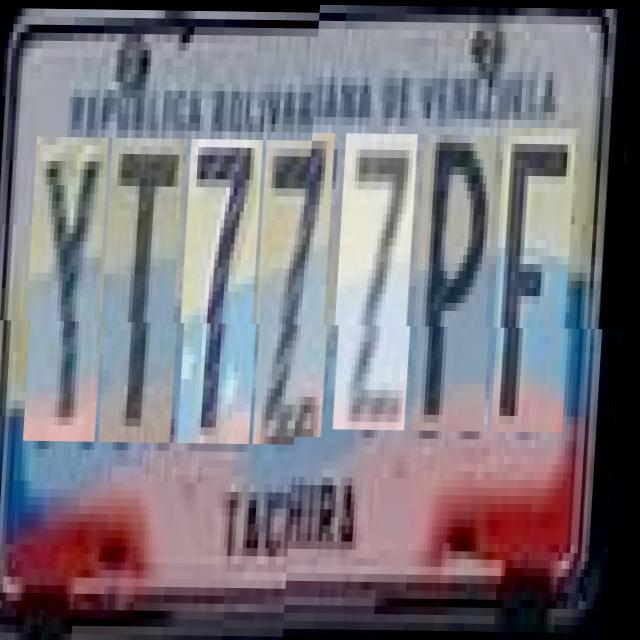7: (182, 138, 268, 444)
F: (496, 134, 582, 439)
P: (417, 141, 502, 438)
T: (104, 138, 190, 442)
Y: (28, 136, 114, 442)
Z: (338, 140, 423, 437), (258, 139, 340, 444)
